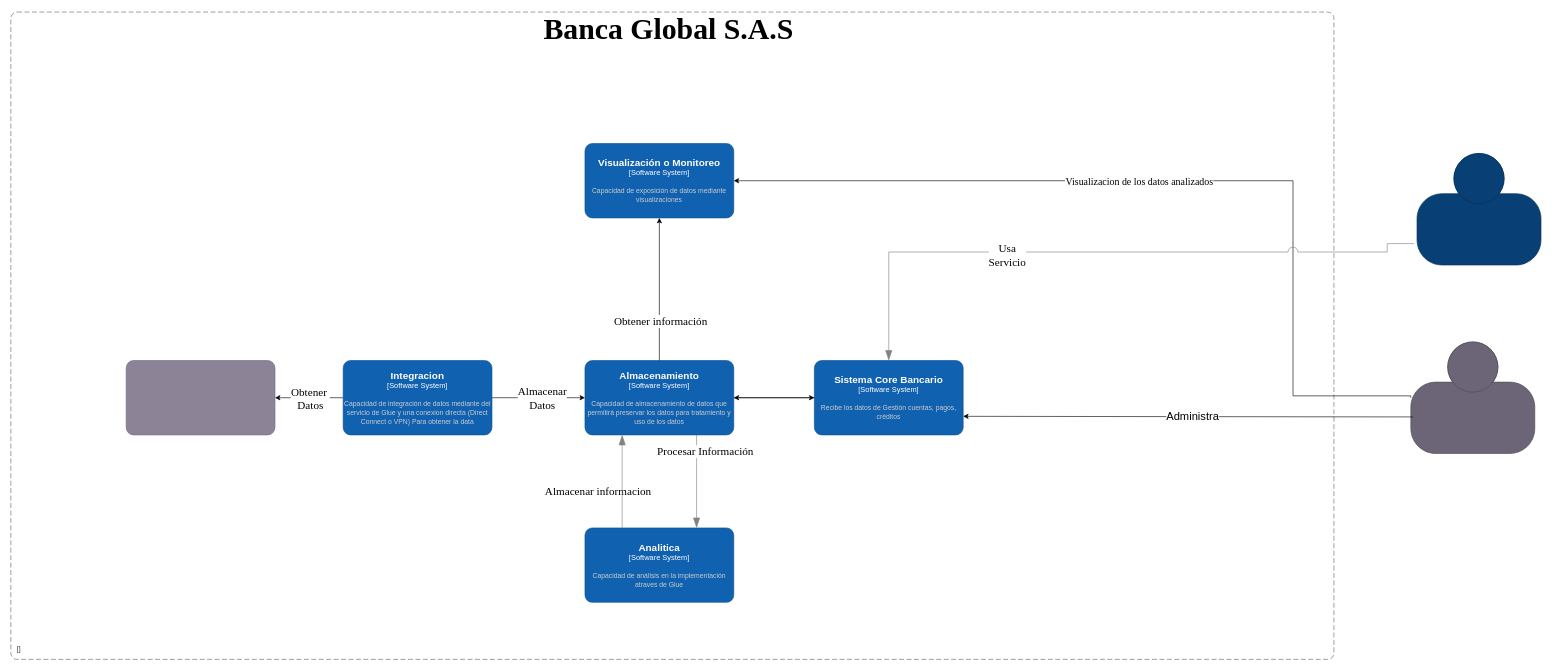
This 1552x670 diagram has some shape labels left out. The shapes that lost their labels are listed below. From the top down, each one's box as (x1, y1, x2, y2) in pixels, then its label:
(1416, 153, 1541, 265): Cliente [Person] Cliente Bancario
(126, 360, 275, 435): Om-Primes Sucursales [Software System] Servidores fisicos del lado del cliente
(1410, 341, 1535, 454): Empleado [Person] Banco
